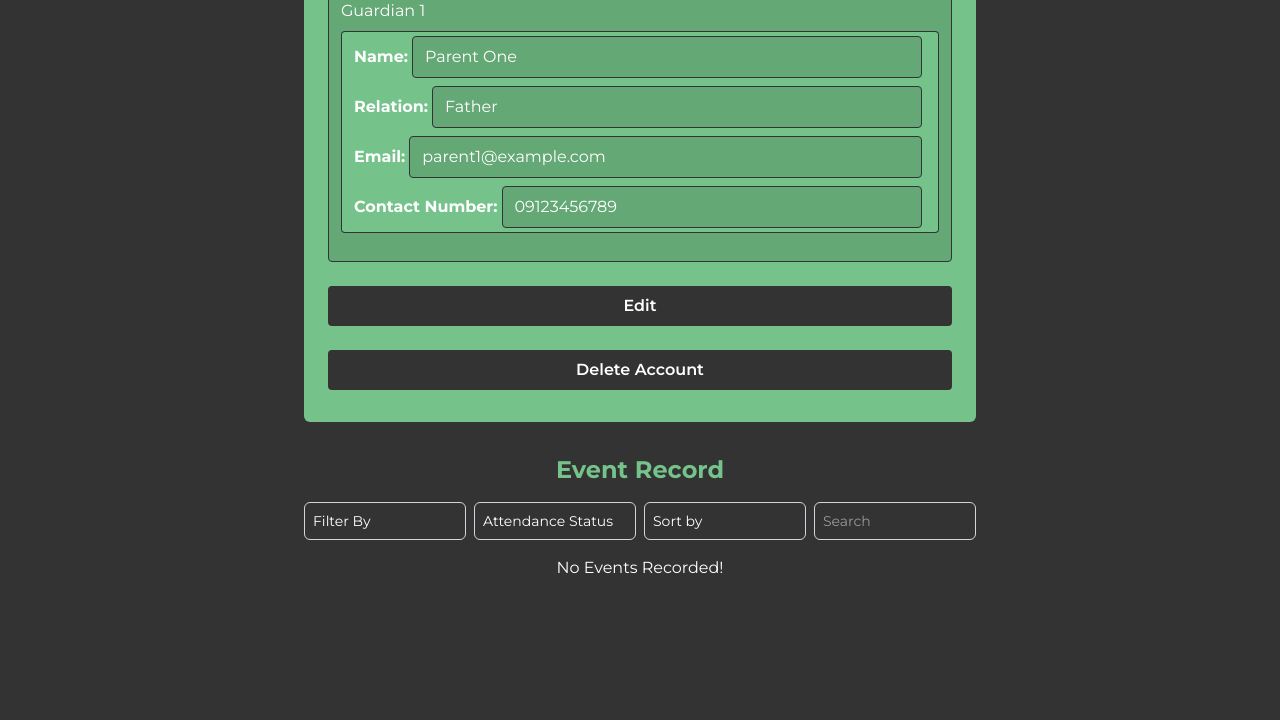
Test: Beneficiary Update › opens and closes delete confirmation modal
(page scrolled)
Click the button "Delete Account".
click(640, 370)  # box [328, 350, 952, 390]
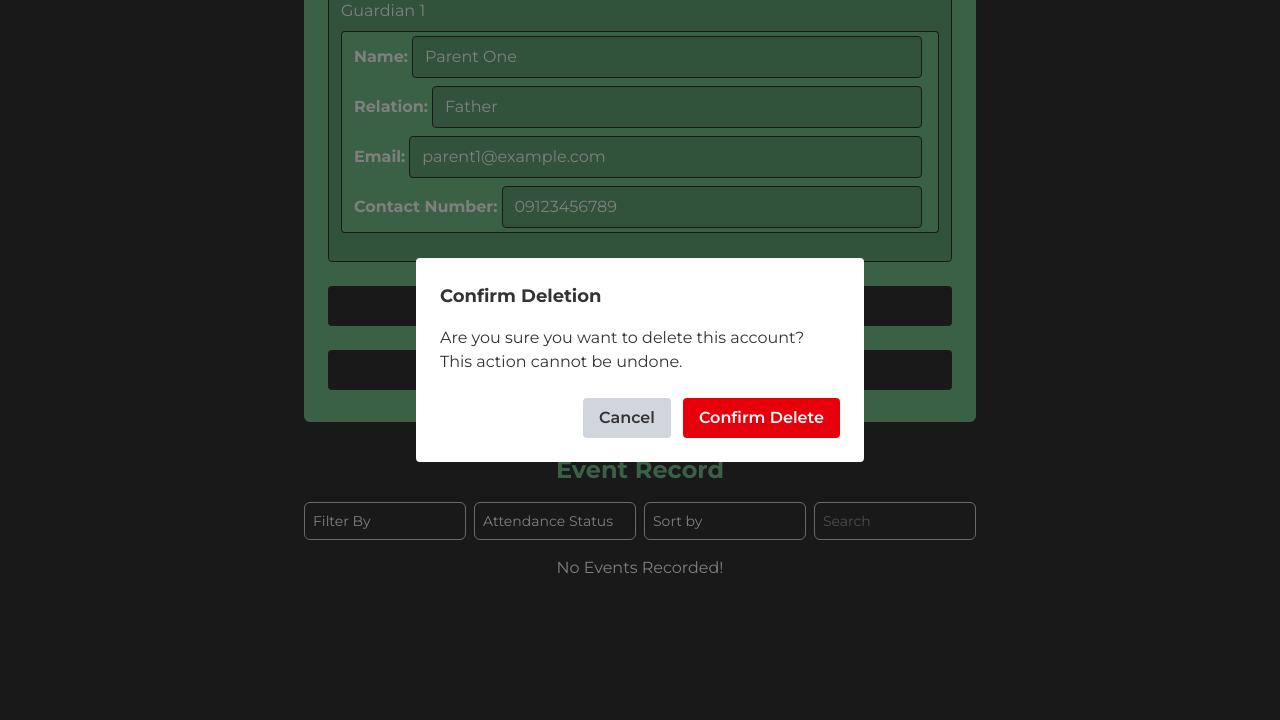
Expected: the heading "Confirm Deletion" is shown, [440, 285, 602, 307]
Click the button "Cancel".
click(627, 418)  # box [583, 398, 671, 438]
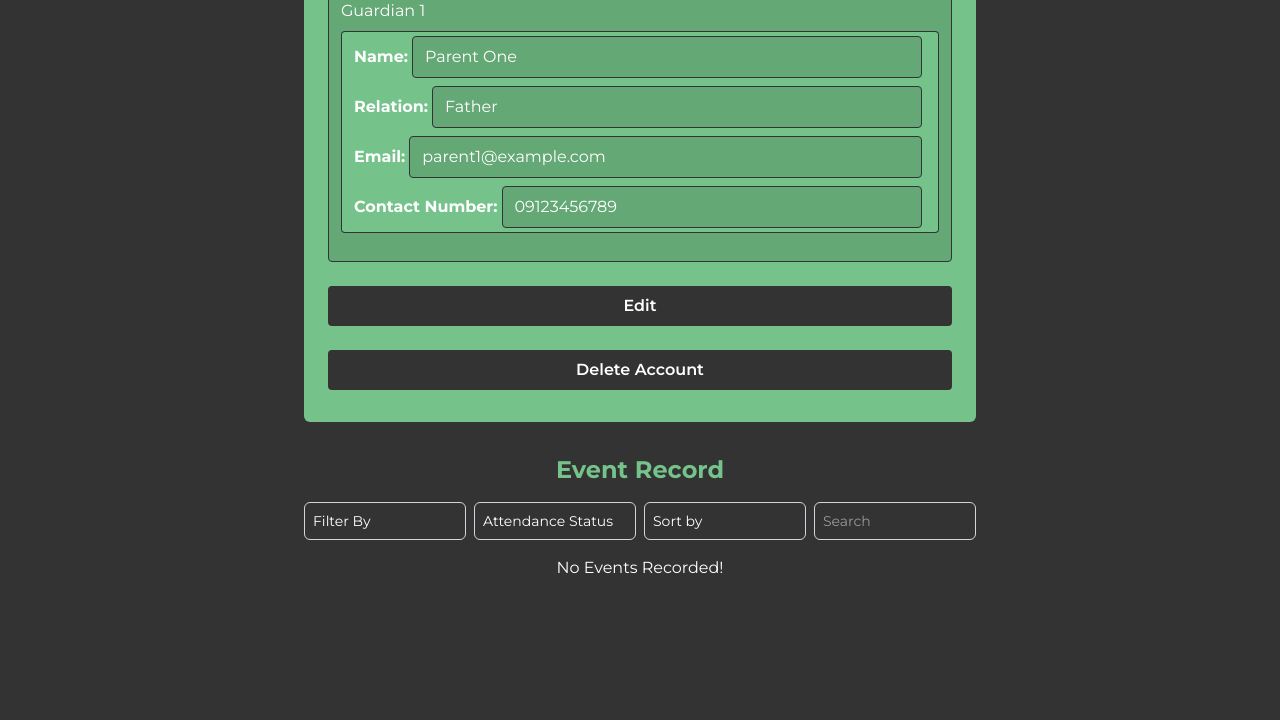
Expected: the heading "Confirm Deletion" is gone
